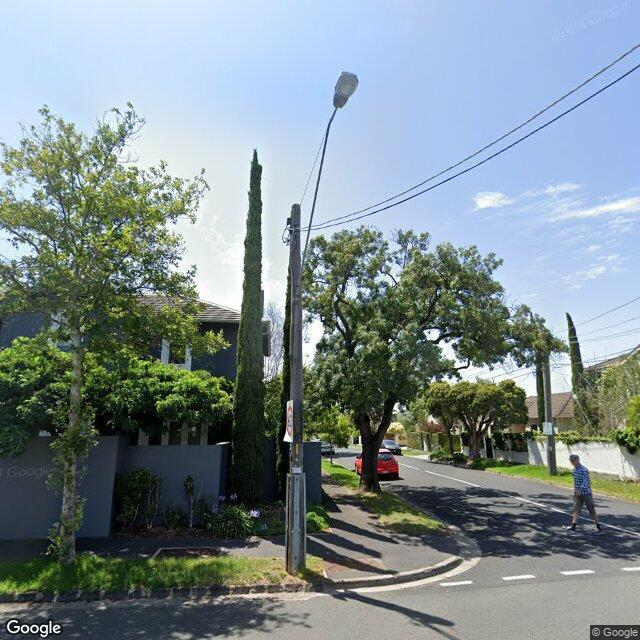streetlight: (296, 70, 360, 298)
timber-pole: (285, 204, 307, 576)
